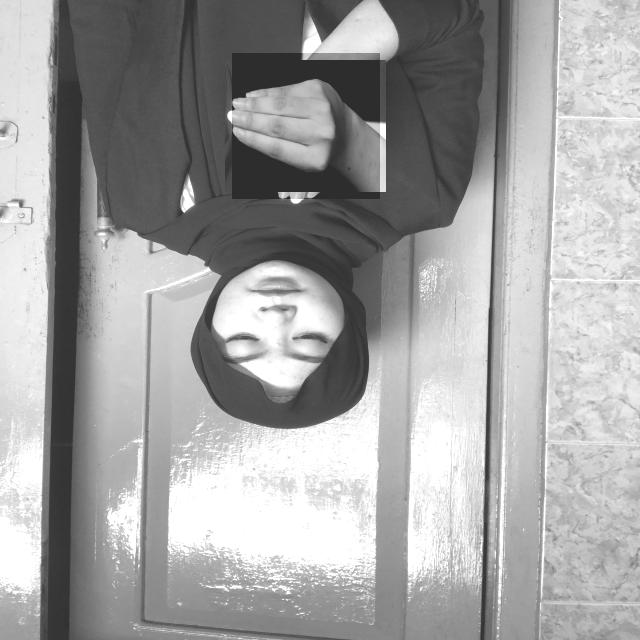kapan: (232, 53, 380, 199)
